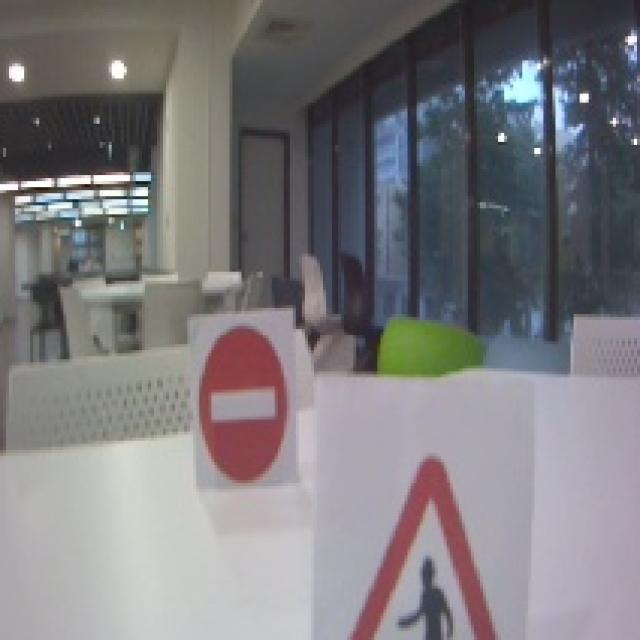DoNotEnterSign: (200, 324, 288, 482)
